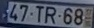4: (8, 3, 18, 21)
6: (62, 6, 73, 24)
7: (19, 4, 29, 22)
8: (73, 7, 84, 25)
R: (43, 5, 57, 25)
T: (35, 4, 45, 23)
